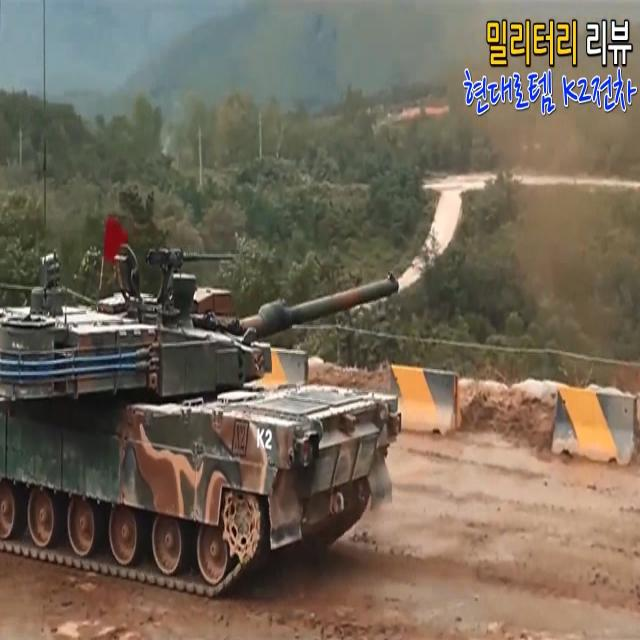korea tank: (0, 247, 408, 606)
